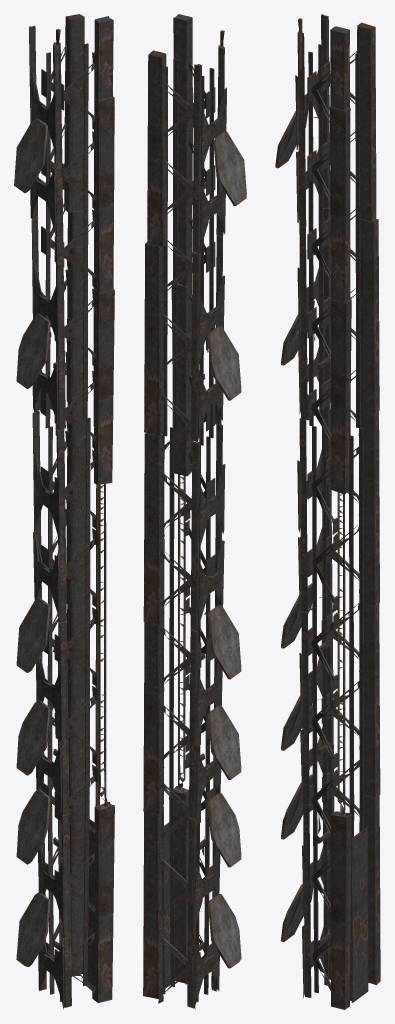
Rendered from SM_Antenna_03.fbx.
3 renders of one model, left to right at view 1: azimuth 30°, elevation 25°; view 2: azimuth 150°, elevation 25°; view 3: azimuth 330°, elevation 25°, orthographic.
Visible parts, largest first — view 1: SM_Antenna_03_LOD0; view 2: SM_Antenna_03_LOD0; view 3: SM_Antenna_03_LOD0.
Part boxes in pixels (x1,y1,x2,y2): SM_Antenna_03_LOD0: [14, 14, 114, 1009]; SM_Antenna_03_LOD0: [143, 14, 246, 1009]; SM_Antenna_03_LOD0: [275, 14, 380, 1009].
Bounding box in the file's own units: 111 × 81.74 × 1283.
1 material, 1 textured.
